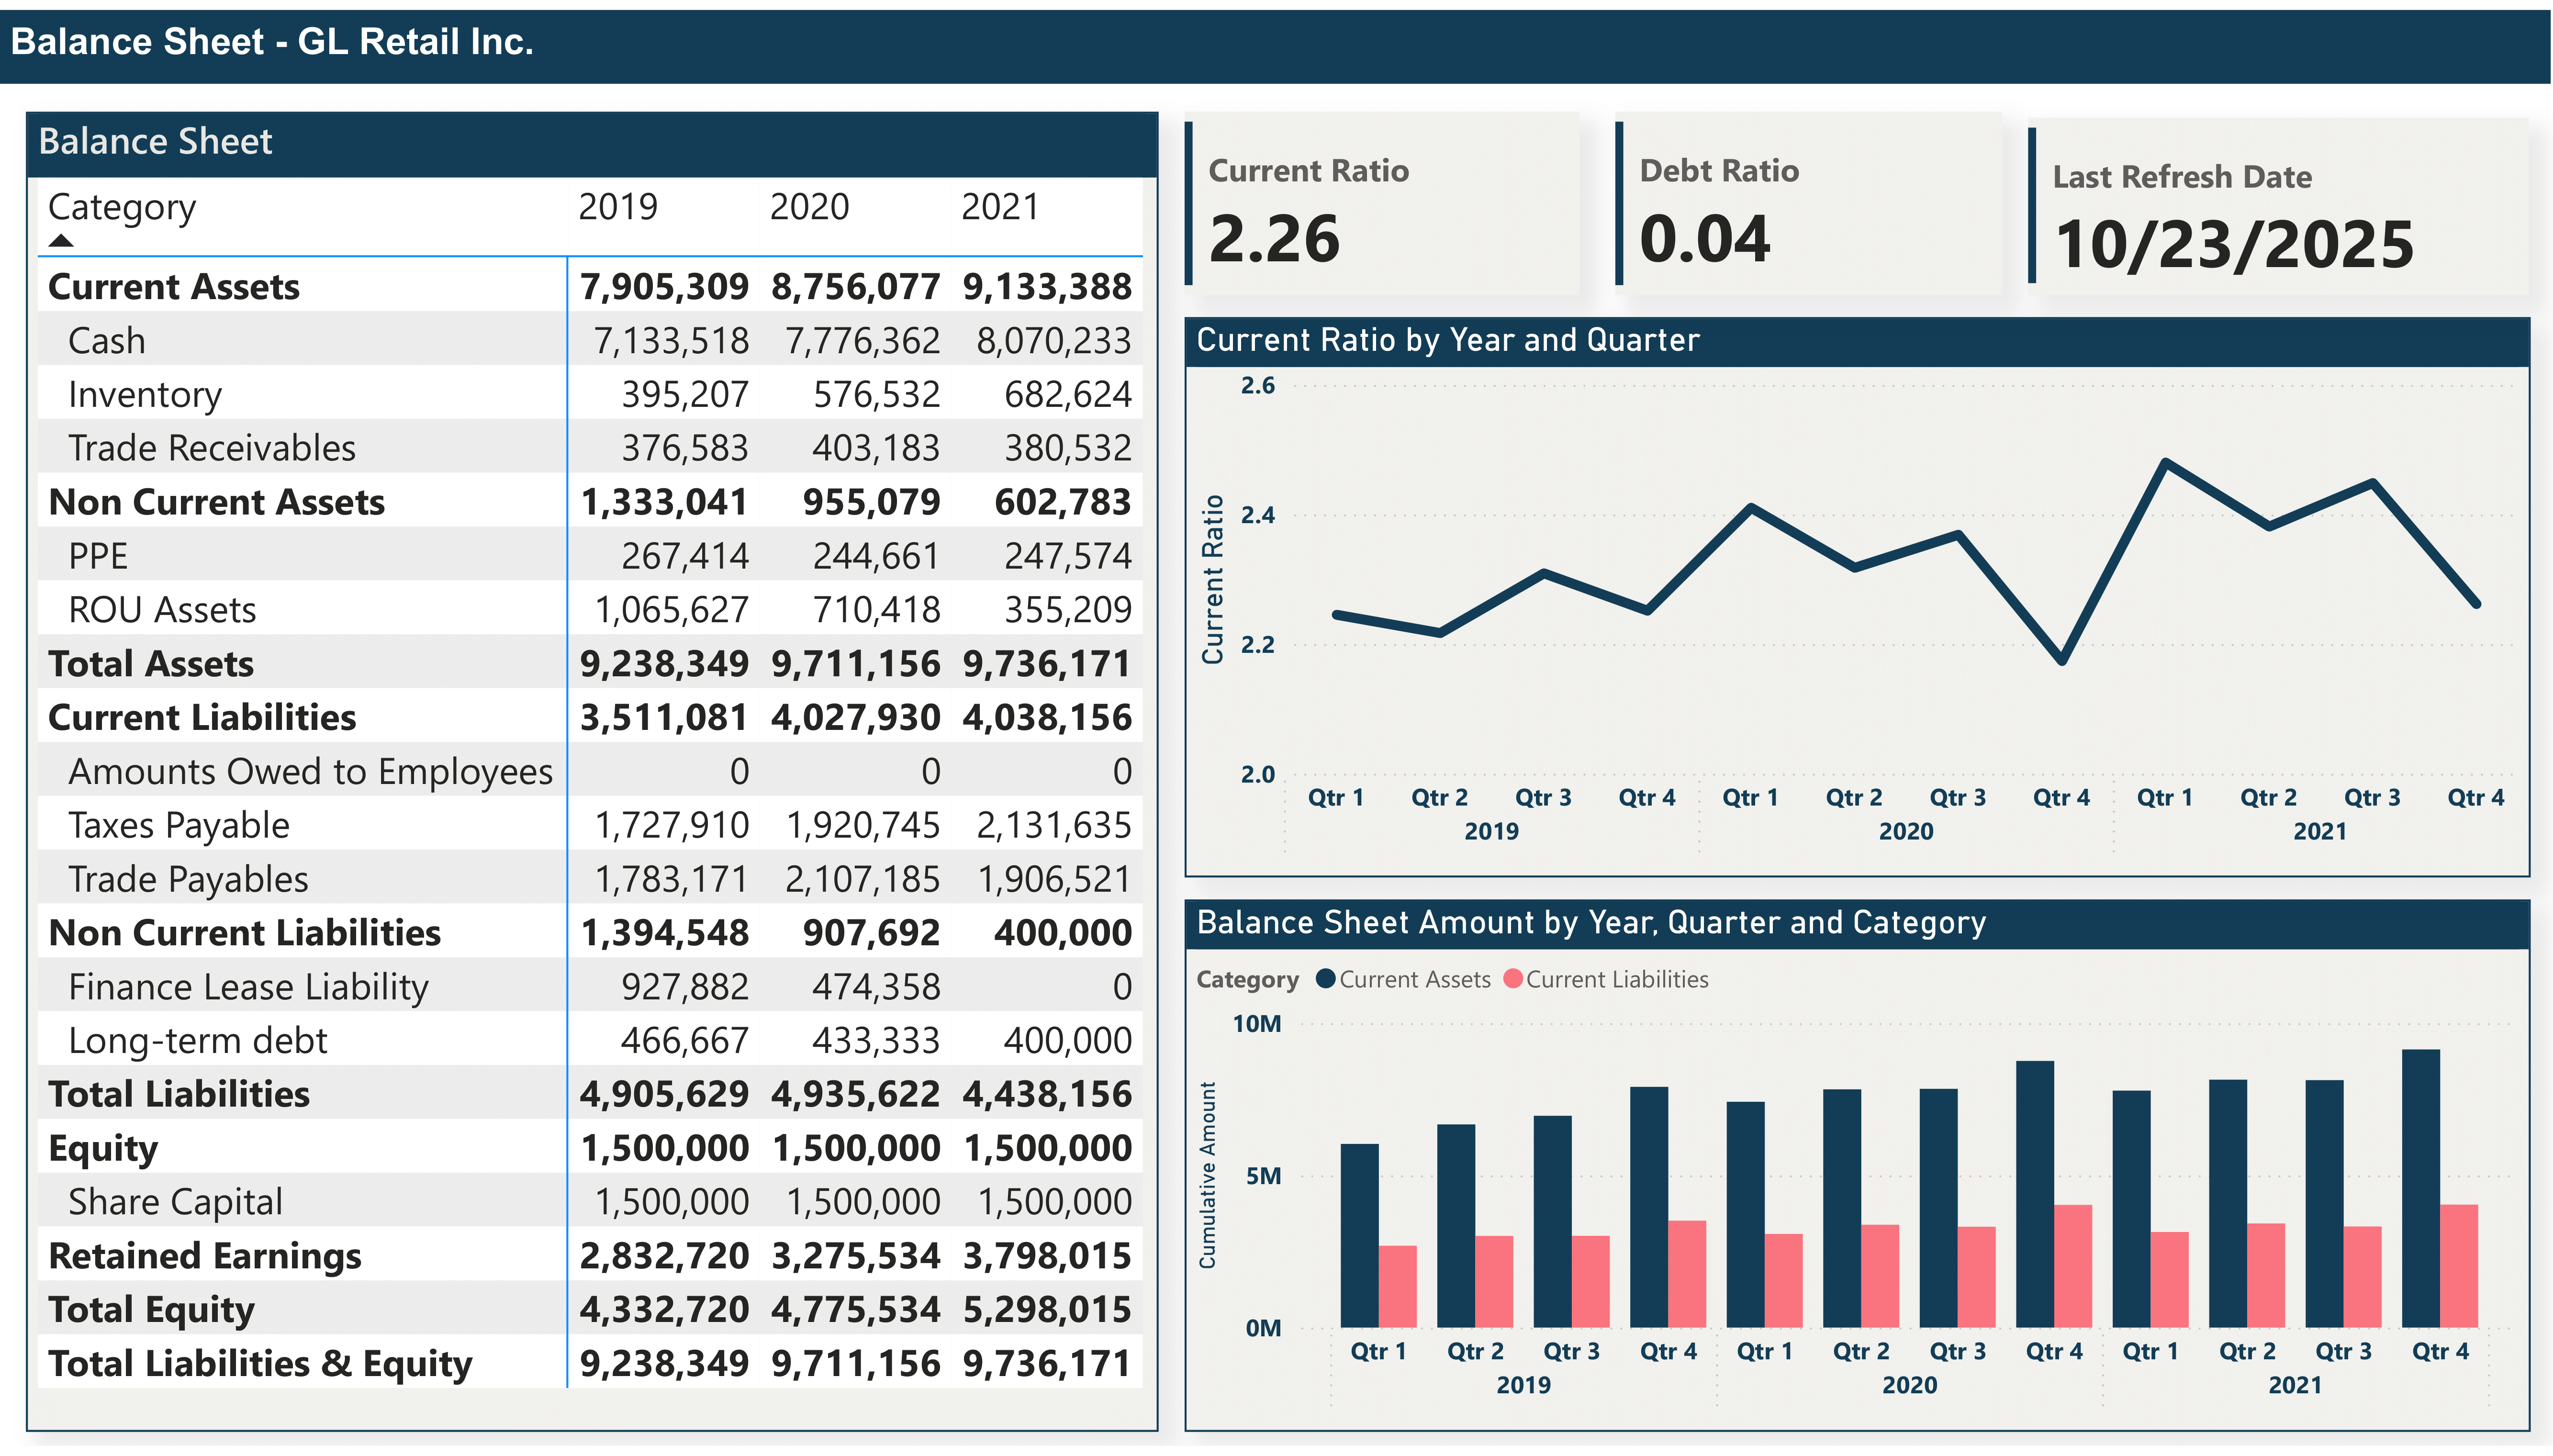

The page's visual inventory and layout, read from the dashboard file:
{"tool":"powerbi","page":{"name":"Balance Sheet","canvas":[1280,720],"ordinal":1},"visuals":[{"type":"textbox","box":[0,0,1279.4,36.5],"z":0},{"type":"pivotTable","title":"Balance Sheet","fields":{"Rows":["Headers.Category","GLAccts.Subcategory"],"Columns":["DimDate.Year"],"Values":["FactGLTran.Balance Sheet"]},"box":[12.7,50.8,568.3,661.9],"z":1000},{"type":"clusteredColumnChart","title":"Balance Sheet Amount by Year, Quarter and Category","fields":{"Y":["FactGLTran.Cumulative Balance"],"Category":["DimDate.Date.Variation.Date Hierarchy.Year","DimDate.Date.Variation.Date Hierarchy.Quarter","DimDate.Date.Variation.Date Hierarchy.Month","DimDate.Date.Variation.Date Hierarchy.Day"],"Series":["DimHeaders.Category"]},"box":[593.7,446,674.6,266.7],"z":2000},{"type":"lineChart","fields":{"Y":["FactGLTran.Current Ratio"],"Category":["DimDate.Date.Variation.Date Hierarchy.Year","DimDate.Date.Variation.Date Hierarchy.Quarter","DimDate.Date.Variation.Date Hierarchy.Month","DimDate.Date.Variation.Date Hierarchy.Day"]},"box":[593.7,154,674.6,281],"z":4000},{"type":"cardVisual","fields":{"Data":["FactGLTran.Current Ratio"]},"box":[593.7,50.8,198.4,92.1],"z":6000},{"type":"cardVisual","fields":{"Data":["FactGLTran.Debt Ratio"]},"box":[809.5,50.8,193.7,92.1],"z":7000},{"type":"cardVisual","fields":{"Data":["FactGLTran.Last Refresh Date"]},"box":[1017.5,54,250.8,88.9],"z":8000}]}

Visuals, with their boxes in screenshot pixels (x1, y1, x2, y2), scaled from the page's 1280x720 canvas onto the 2553x1456 screenshot:
textbox: bbox=(0, 0, 2552, 74)
"Balance Sheet" pivotTable: bbox=(25, 103, 1159, 1441)
"Balance Sheet Amount by Year, Quarter and Category" clusteredColumnChart: bbox=(1184, 902, 2530, 1441)
lineChart - FactGLTran.Current Ratio x DimDate.Date.Variation.Date Hierarchy.Year: bbox=(1184, 312, 2530, 880)
cardVisual - FactGLTran.Current Ratio: bbox=(1184, 103, 1580, 289)
cardVisual - FactGLTran.Debt Ratio: bbox=(1614, 103, 2001, 289)
cardVisual - FactGLTran.Last Refresh Date: bbox=(2029, 109, 2530, 289)
